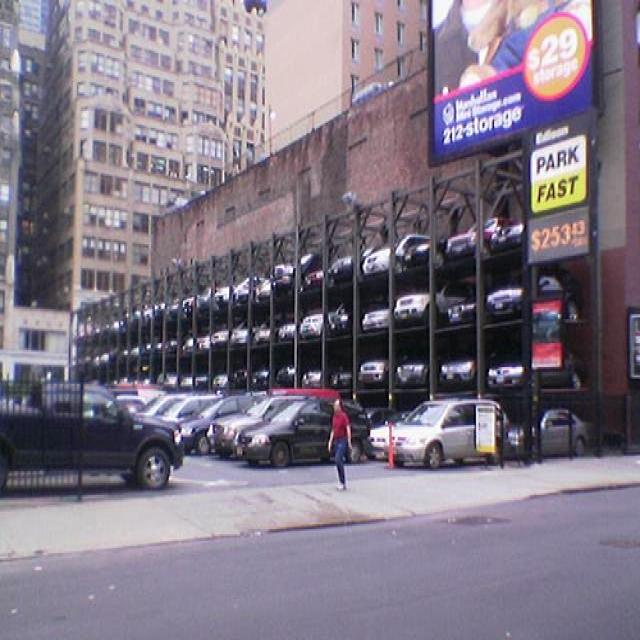Car: (0, 386, 183, 493), (380, 394, 515, 464), (236, 399, 365, 470), (214, 393, 296, 450), (509, 403, 597, 456), (483, 264, 528, 319), (397, 281, 442, 322), (392, 348, 432, 391), (438, 346, 484, 382), (480, 361, 528, 389)
